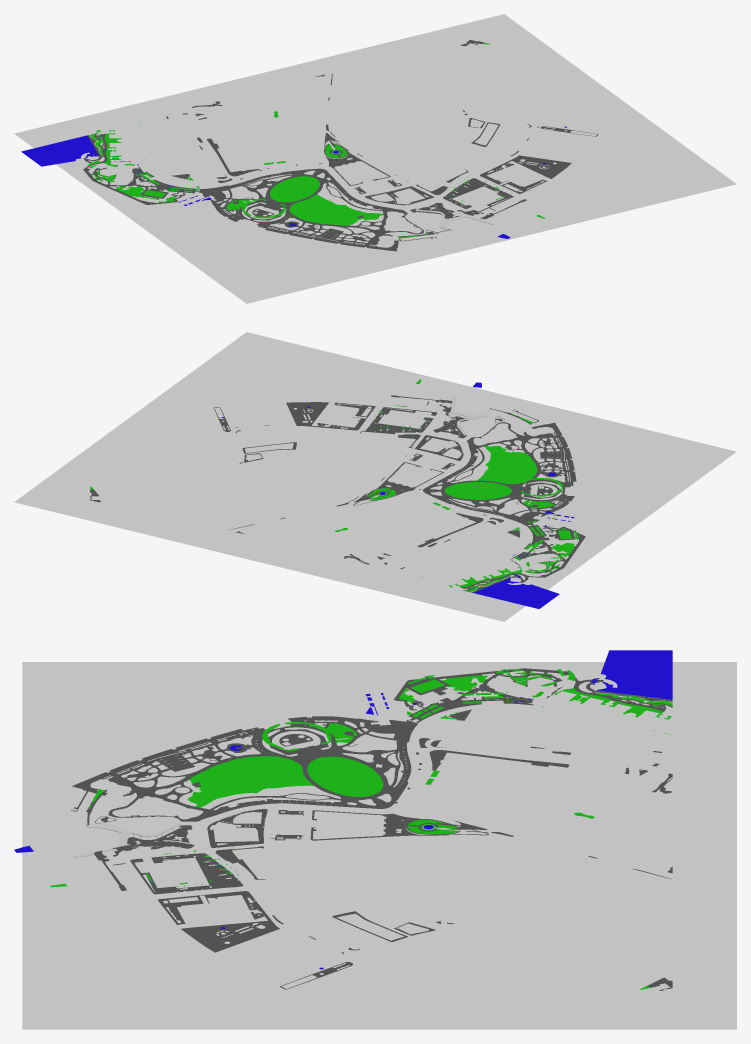
Rendered from ground_mesh.glb.
The picture shows the model from 3 angles, top to bottom: view 1: azimuth 30°, elevation 25°; view 2: azimuth 150°, elevation 25°; view 3: azimuth 270°, elevation 25°; orthographic projection. The views are drawn at different scales.
Visible parts, largest first — view 1: Terrain.001, element.195, The Battery Woodland, element.215, The Battery Oval, element.202, Vietnam Veterans Plaza; view 2: Terrain.001, element.195, The Battery Woodland, element.215, The Battery Oval, element.202, Vietnam Veterans Plaza; view 3: Terrain.001, element.195, The Battery Woodland, element.215, The Battery Oval, element.202, Vietnam Veterans Plaza, element.193, element.201, bridge_1, element.624, element.1896.
Boxes of the visible parts, x1,y1,x2,y2 form: Terrain.001: (14, 14, 736, 303); element.195: (214, 168, 423, 251); The Battery Woodland: (289, 194, 383, 225); element.215: (21, 135, 99, 166); The Battery Oval: (270, 176, 320, 202); element.202: (443, 178, 513, 212); Vietnam Veterans Plaza: (511, 155, 571, 178); Terrain.001: (14, 332, 736, 621); element.195: (423, 422, 576, 517); The Battery Woodland: (477, 445, 537, 484); element.215: (473, 578, 559, 608); The Battery Oval: (445, 482, 511, 499); element.202: (365, 407, 436, 432); Vietnam Veterans Plaza: (286, 402, 328, 426); Terrain.001: (22, 662, 736, 1029); element.195: (72, 716, 411, 821); The Battery Woodland: (188, 756, 313, 807); element.215: (597, 650, 672, 699); The Battery Oval: (307, 756, 383, 796); element.202: (130, 853, 243, 894); Vietnam Veterans Plaza: (181, 920, 279, 952); element.193: (355, 718, 417, 740); element.201: (158, 891, 270, 924); bridge_1: (74, 823, 181, 857); element.624: (409, 689, 503, 722); element.1896: (429, 750, 569, 770).
Size of the model in its own units: 1142 by 25.7 by 923.
